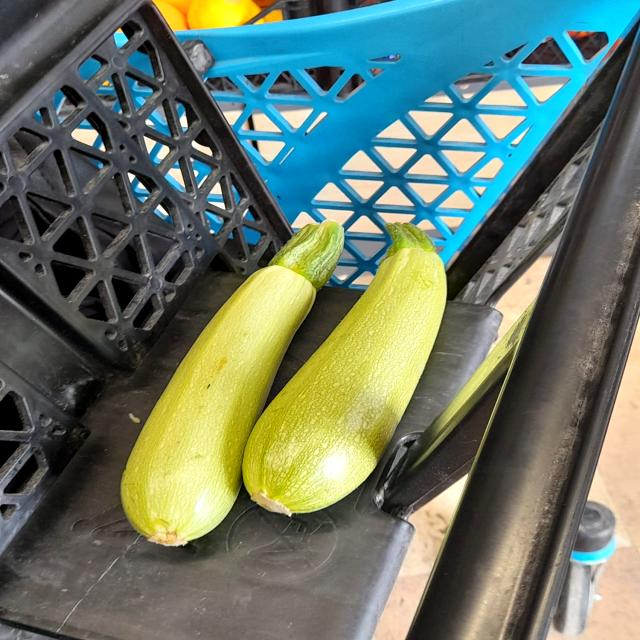zucchini: (115, 206, 357, 551), (240, 215, 465, 522)
